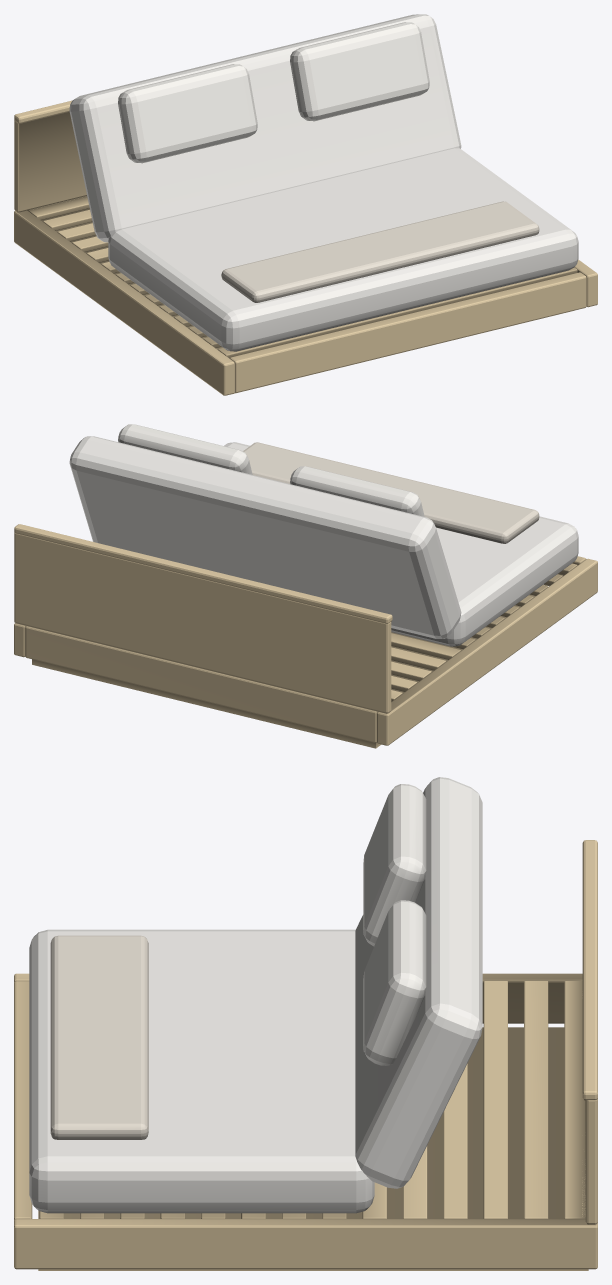
Rendered from bedFuton.glb.
3 renders of one model, top to bottom at view 1: azimuth 30°, elevation 25°; view 2: azimuth 150°, elevation 25°; view 3: azimuth 270°, elevation 25°, orthographic. The views are drawn at different scales.
Visible parts, largest first — view 1: futon, futon_back; view 2: futon, futon_back; view 3: futon, futon_back.
Part boxes in pixels (x1,y1,x2,y2): futon: (14, 100, 597, 395); futon_back: (69, 14, 461, 242); futon: (14, 442, 597, 748); futon_back: (69, 424, 461, 638); futon: (14, 840, 597, 1270); futon_back: (355, 777, 482, 1188).
Bounding box in the file's own units: 1.96 × 0.9947 × 1.91.
